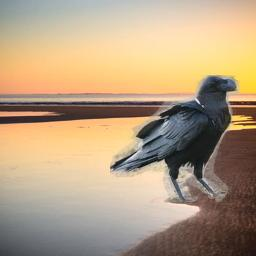Crow: (110, 75, 240, 202)
